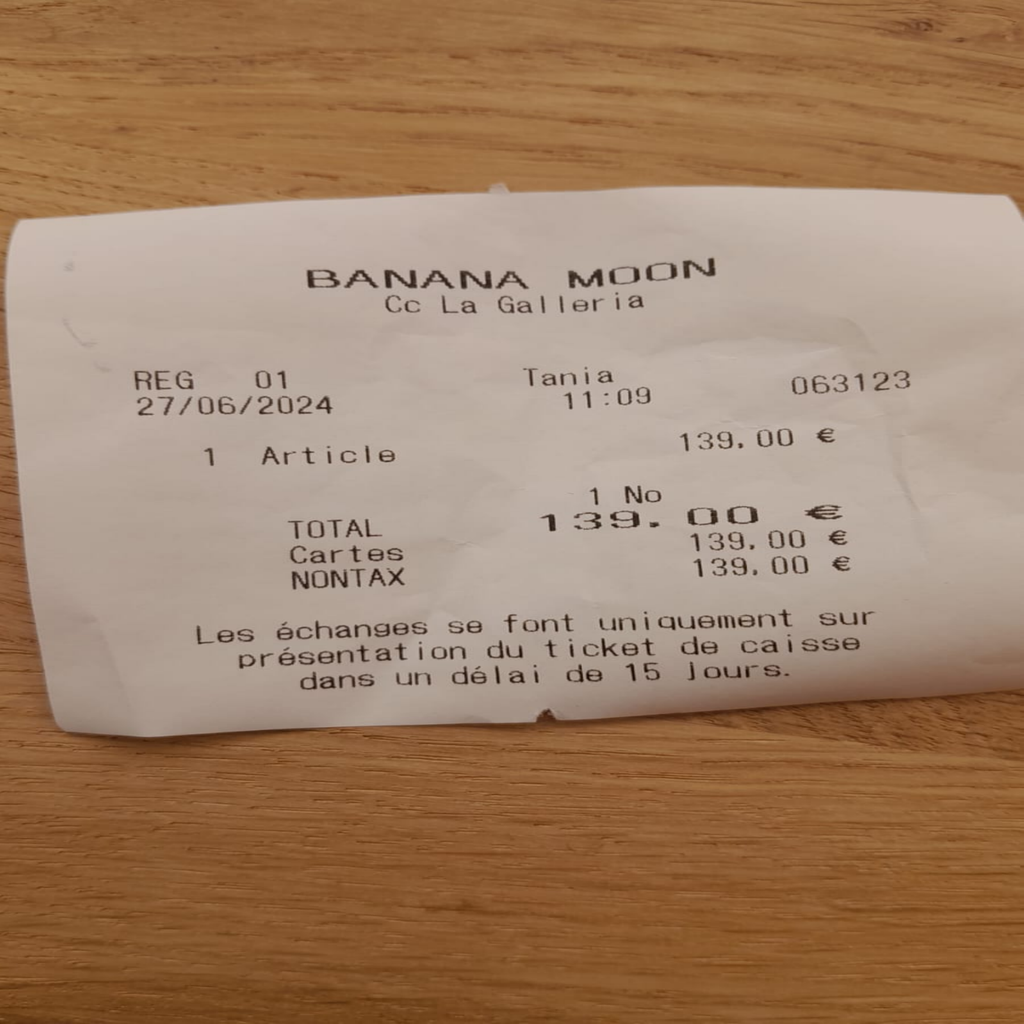recipt: (2, 184, 1022, 741)
